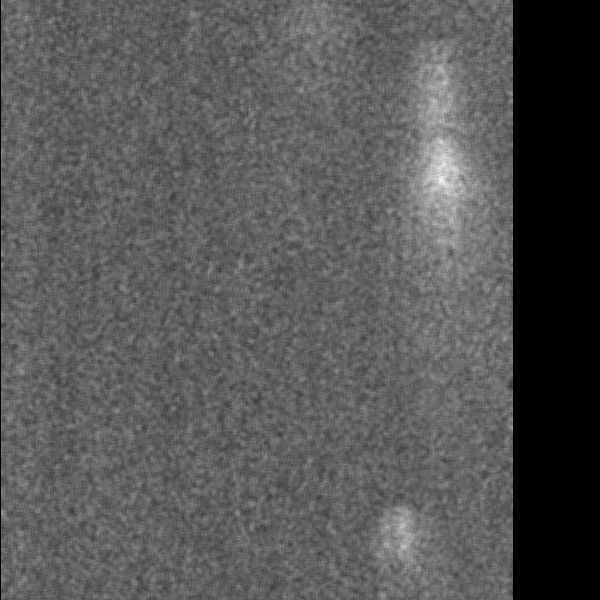spark: (411, 68, 465, 275), (386, 489, 415, 591), (283, 8, 332, 55)
